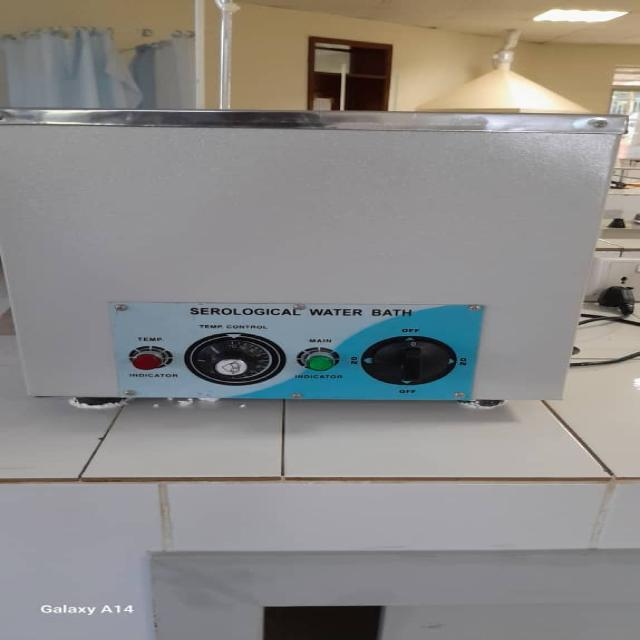Water-Oil Bath: (5, 110, 608, 404)
